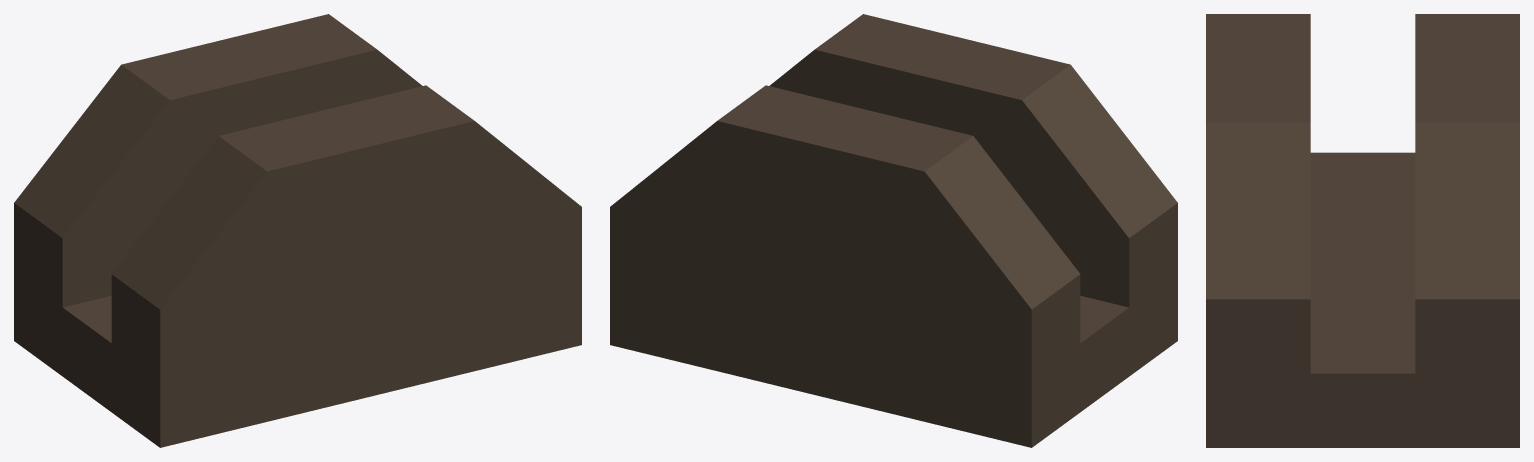
Rendered from SwitchBase.fbx.
3 views of the same model, side by side, from view 1: azimuth 30°, elevation 25°; view 2: azimuth 150°, elevation 25°; view 3: azimuth 270°, elevation 25° (orthographic). The views are drawn at different scales.
Visible parts, largest first — view 1: SwitchBase; view 2: SwitchBase; view 3: SwitchBase.
Part boxes in pixels (x1,y1,x2,y2): SwitchBase: (14,14,581,447); SwitchBase: (610,14,1177,447); SwitchBase: (1206,14,1519,447).
Size of the model in its own units: 60 by 36 by 34.03.
